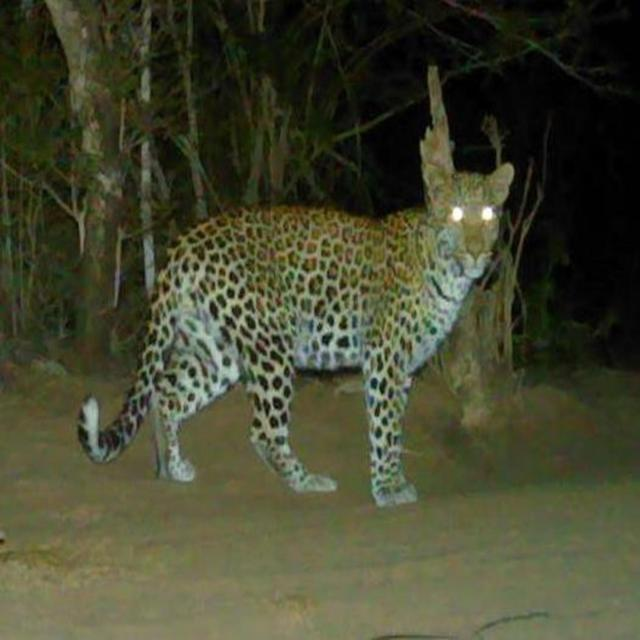Leopard: (66, 184, 504, 513)
